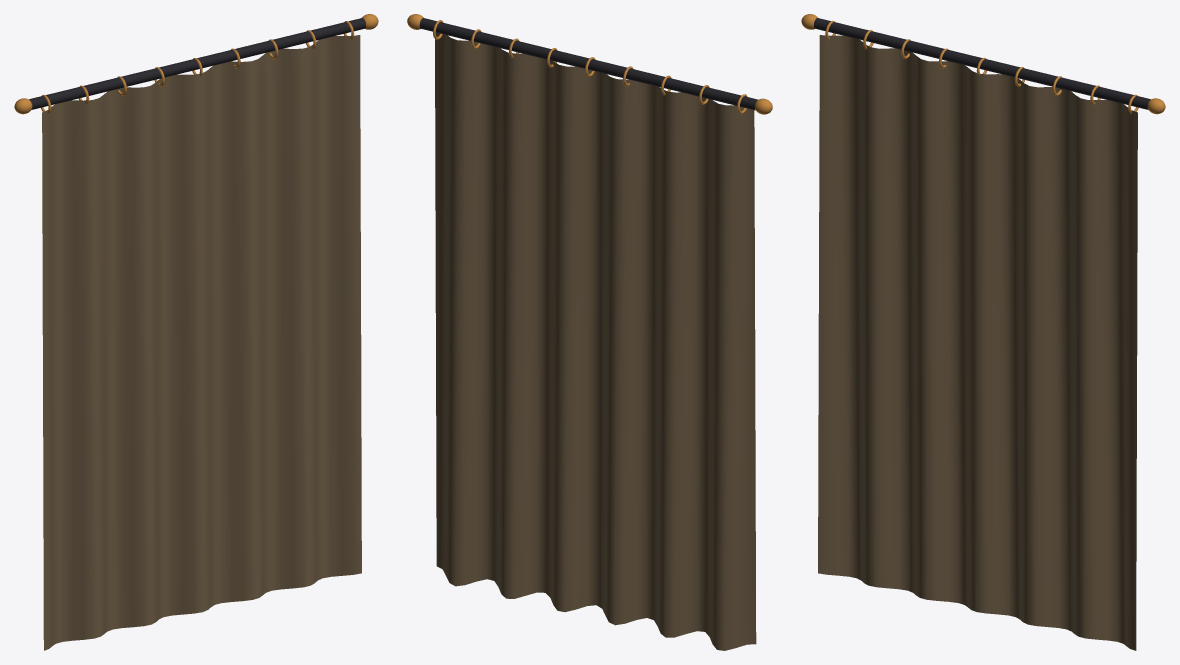
File: mia-curtain.glb
The picture shows the model from 3 angles, left to right: view 1: azimuth 30°, elevation 25°; view 2: azimuth 150°, elevation 25°; view 3: azimuth 330°, elevation 25°; orthographic projection.
Parts seen in each view (by area): view 1: Body_curtain-fabric, Body_iron, Body_brass; view 2: Body_curtain-fabric, Body_iron, Body_brass; view 3: Body_curtain-fabric, Body_iron, Body_brass.
Boxes of the visible parts, x1,y1,x2,y2 form: Body_curtain-fabric: (42, 35, 361, 650); Body_iron: (29, 18, 365, 109); Body_brass: (14, 14, 378, 114); Body_curtain-fabric: (435, 32, 756, 650); Body_iron: (419, 18, 757, 110); Body_brass: (407, 14, 772, 114); Body_curtain-fabric: (818, 35, 1137, 650); Body_iron: (814, 18, 1150, 109); Body_brass: (801, 14, 1165, 114).
Bounding box in the file's own units: 1.66 × 2.43 × 0.087.
